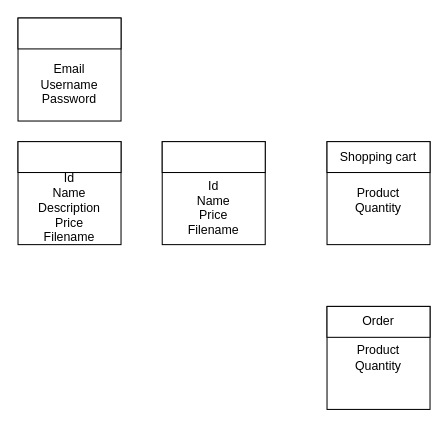
Image size: 448x427. Some labels were removed from this diagram. The shapes that lost their labels are listed below. From the top down, each one's centre as x and y in pixels, then its label:
At (x=69, y=33): "Sessie".
At (x=69, y=157): "Product".
At (x=213, y=157): "Webshop".
